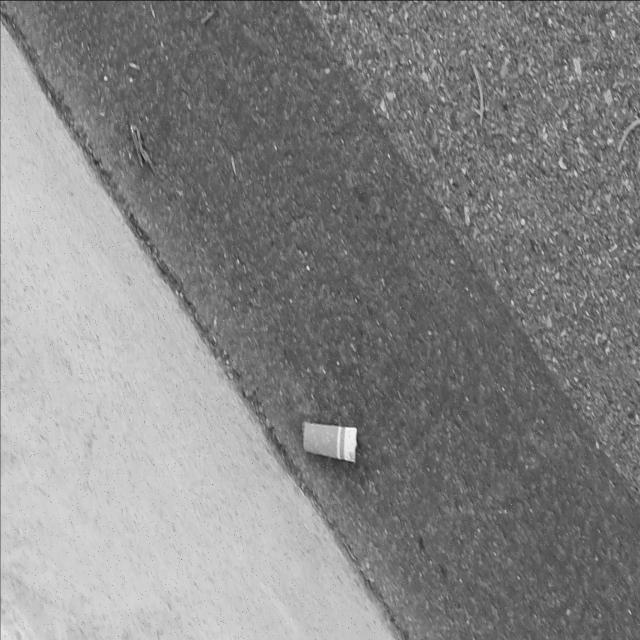other waste: (300, 417, 358, 464)
